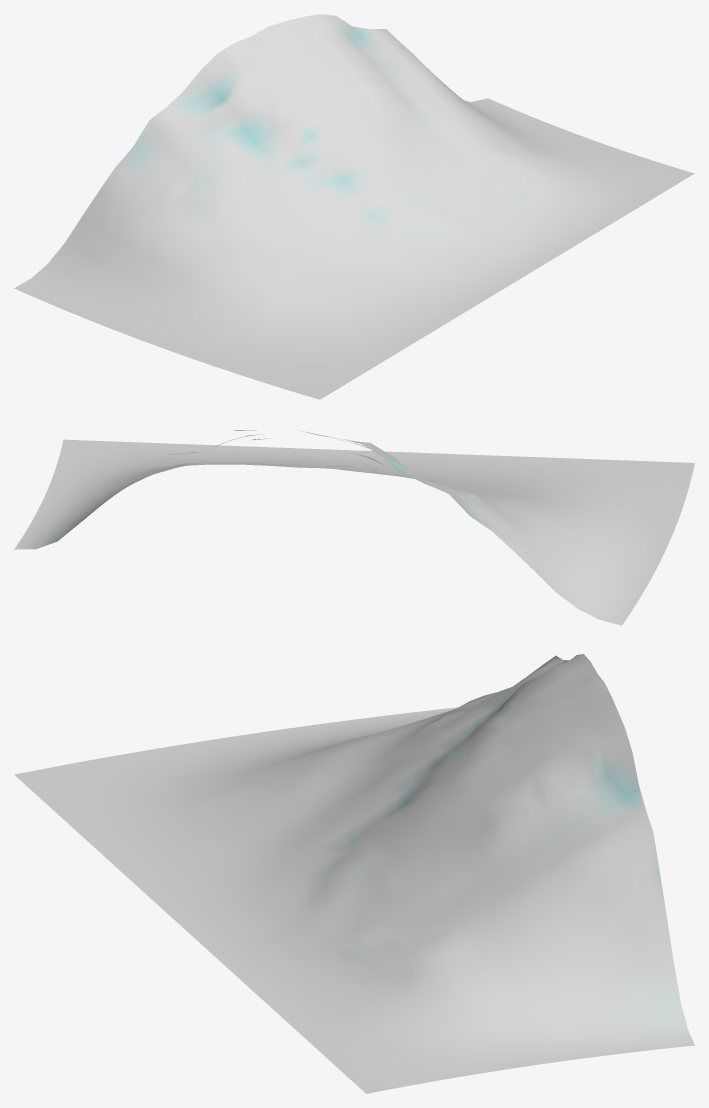
File: middle_0.glb
3 renders of one model, top to bottom at view 1: azimuth 30°, elevation 25°; view 2: azimuth 150°, elevation 25°; view 3: azimuth 270°, elevation 25°, orthographic. The views are drawn at different scales.
Visible parts, largest first — view 1: Mountain; view 2: Mountain; view 3: Mountain.
Boxes of the visible parts, bbox=[...] form: Mountain: bbox=[14, 14, 694, 399]; Mountain: bbox=[14, 430, 694, 625]; Mountain: bbox=[14, 654, 694, 1093].
Size of the model in its own units: 666 by 162 by 490.
